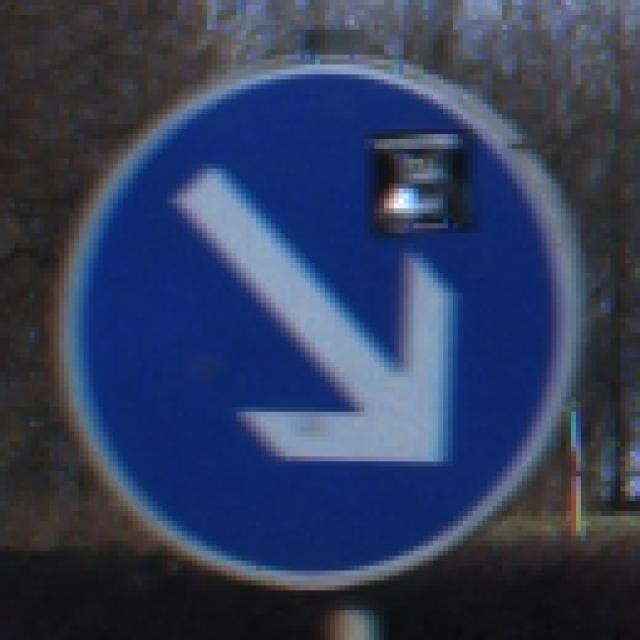compulsary keep right: (63, 55, 589, 591)
